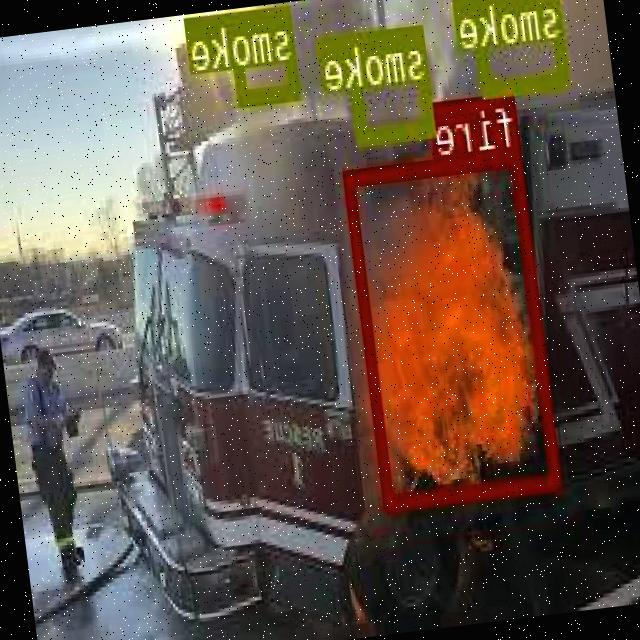fire: (344, 148, 563, 506)
smoke: (348, 22, 438, 144), (472, 0, 572, 95), (229, 2, 302, 102)
